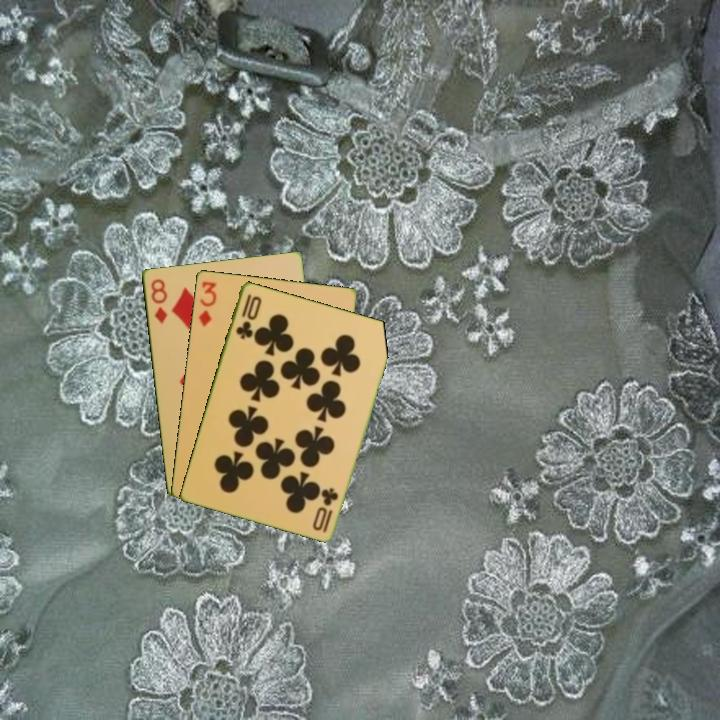10c: (232, 290, 264, 341), (310, 484, 341, 535)
3d: (194, 278, 219, 329)
8d: (147, 275, 170, 326)
